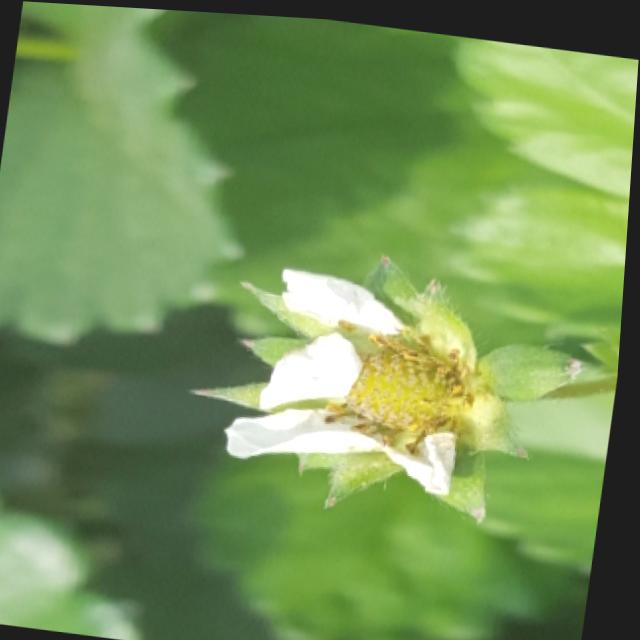Blossom Blight: (321, 313, 482, 455)
